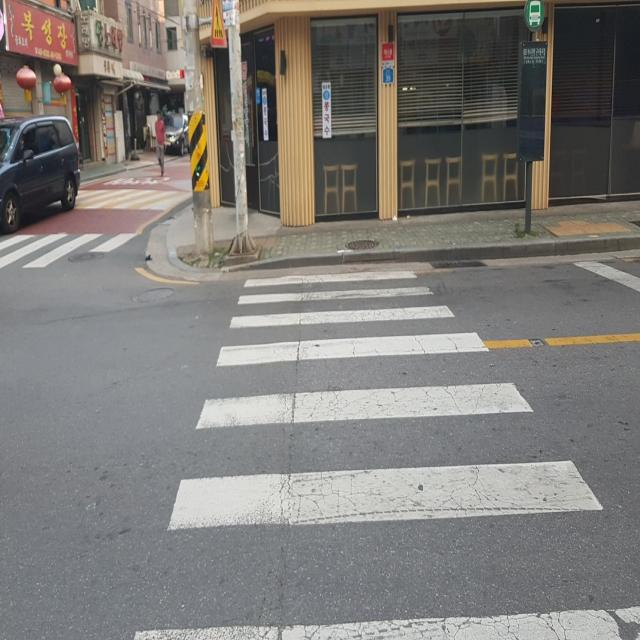횡단보도: (131, 258, 640, 640), (0, 230, 147, 278)
